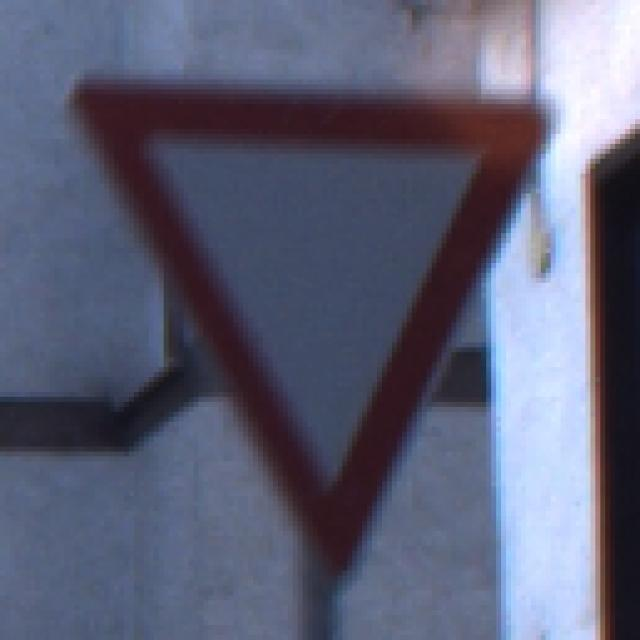give way: (53, 51, 602, 603)
